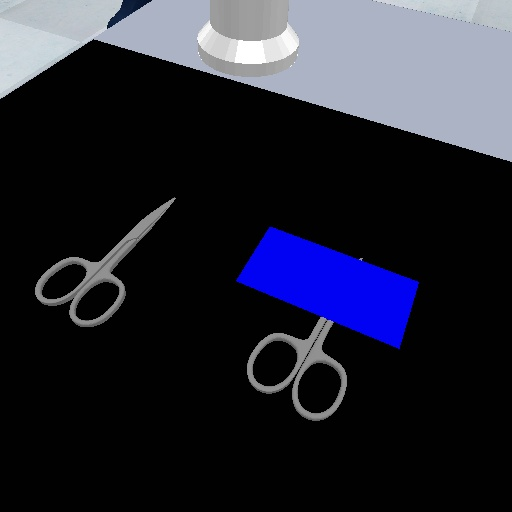tijera: (32, 191, 179, 330), (243, 313, 351, 425)
